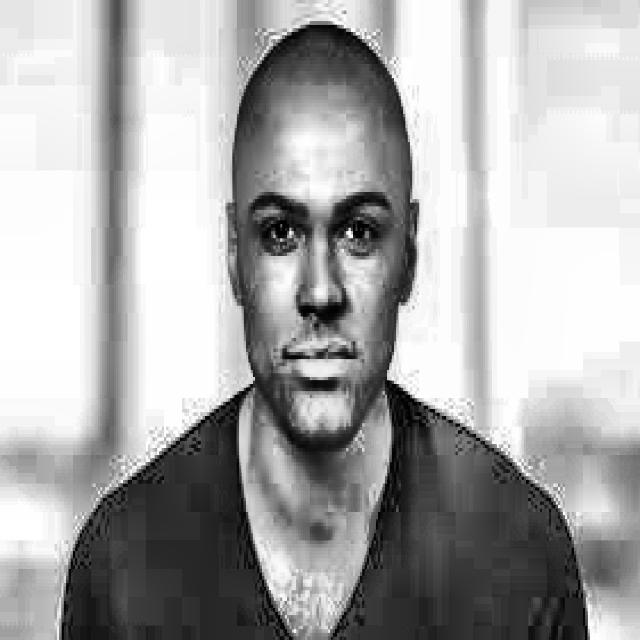neutral: (234, 58, 426, 456)
